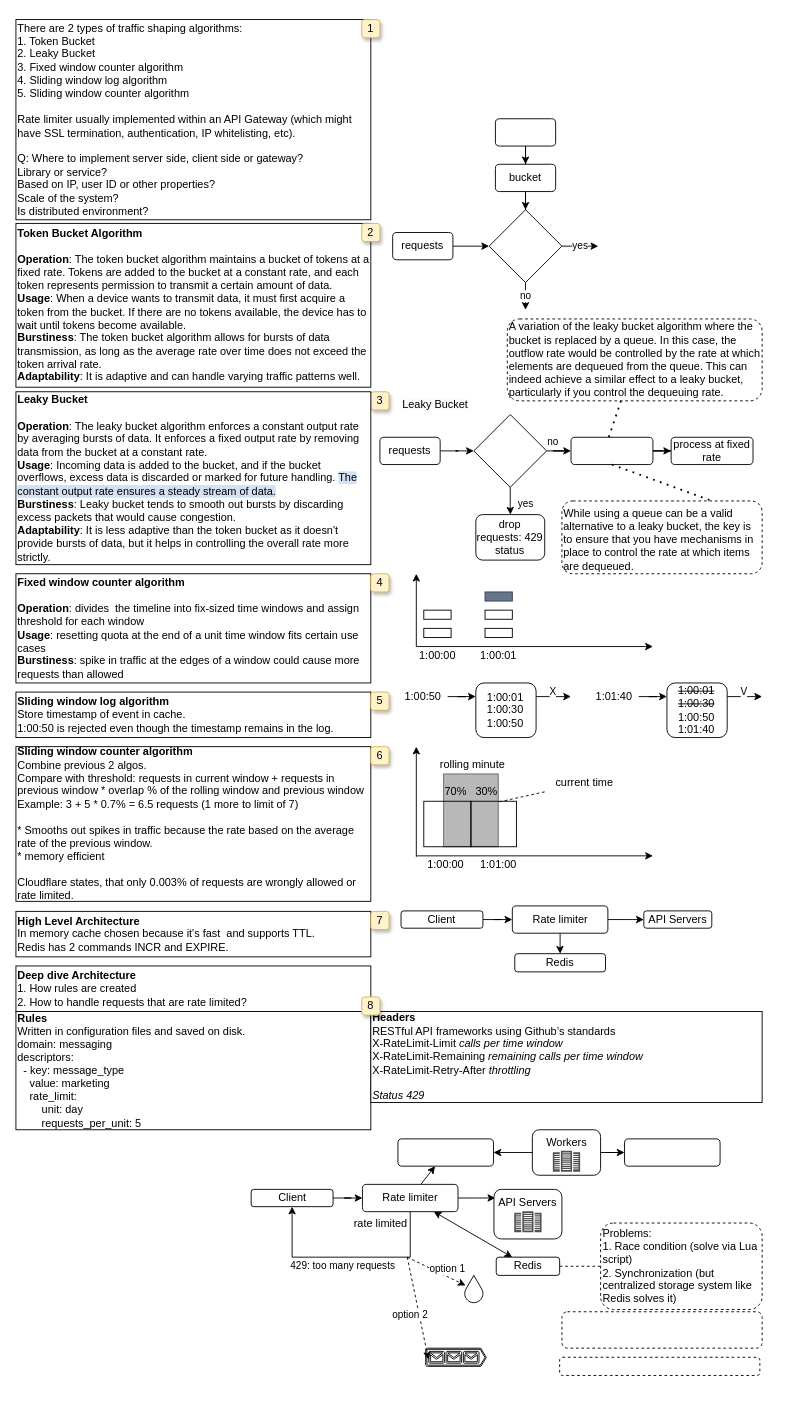
This 785x1401 diagram has some shape labels left out. Here are the shapes that lost their labels. From the top down, the centre of each, then its label:
pixel 525 132: refiller
pixel 525 246: enough tokens?
pixel 510 450: bucket full?
pixel 611 450: FIFO queue
pixel 447 823: prev minutre
pixel 493 823: curr minute
pixel 445 1152: Cache
pixel 672 1152: Rules
pixel 473 1288: drop requests
pixel 661 1329: Performance optimization: 1. Use Edge servers to reduce latency
pixel 455 1356: queue requests
pixel 659 1365: Monitoring
